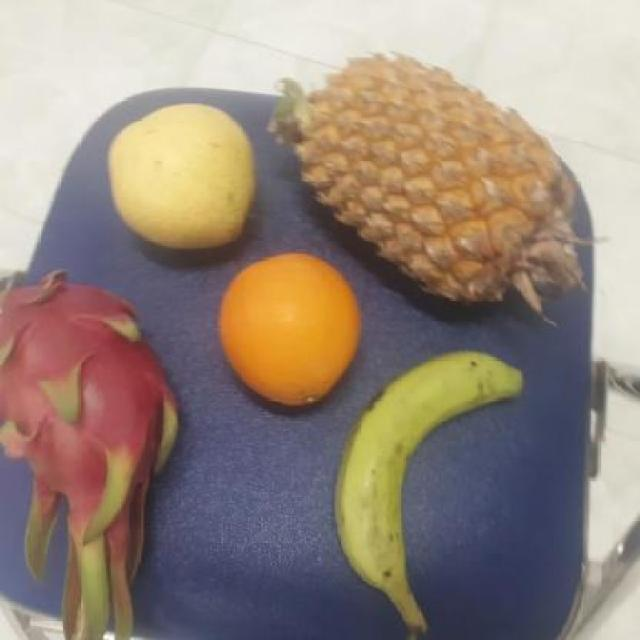banana: (329, 350, 523, 593)
dragon fruit: (0, 272, 178, 567)
oren: (212, 252, 361, 406)
pear: (103, 98, 259, 255)
pineapple: (278, 46, 570, 309)
